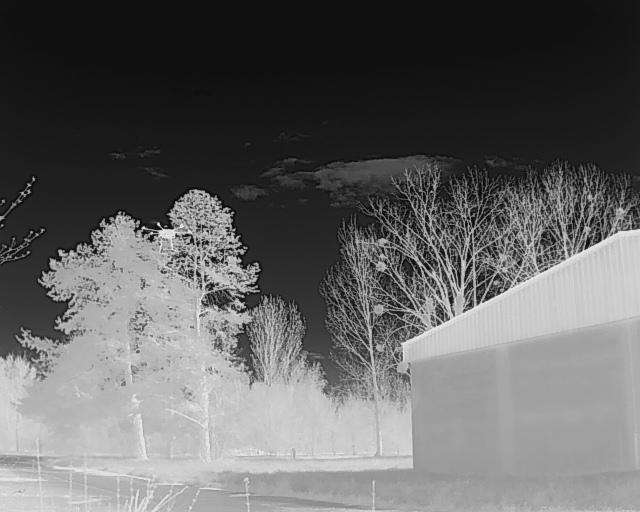drone: (138, 213, 198, 260)
